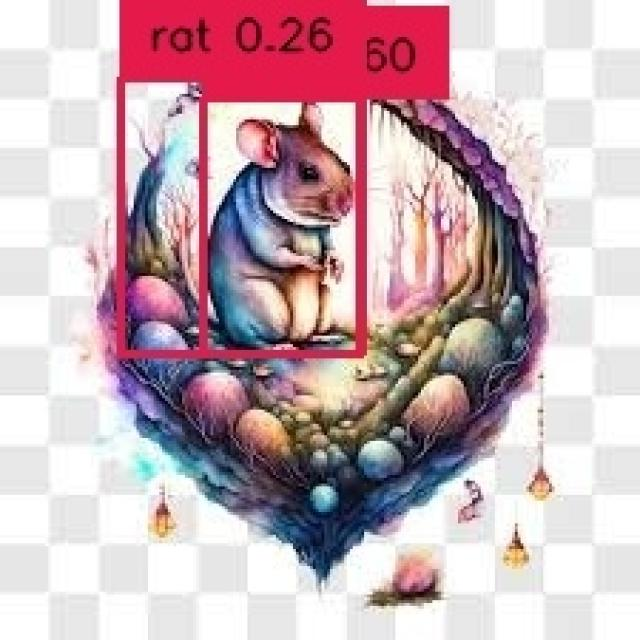rat: (116, 74, 358, 350), (199, 94, 356, 350)
